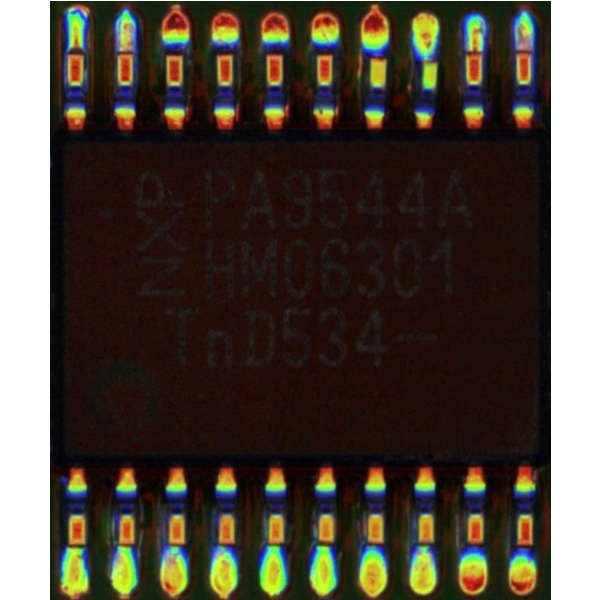Bad_podu: (70, 33, 82, 61), (519, 35, 531, 60), (469, 38, 480, 64), (122, 35, 132, 63)
